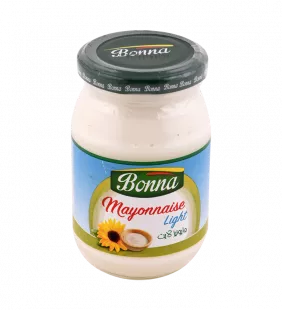BONNA: (60, 20, 220, 291)
